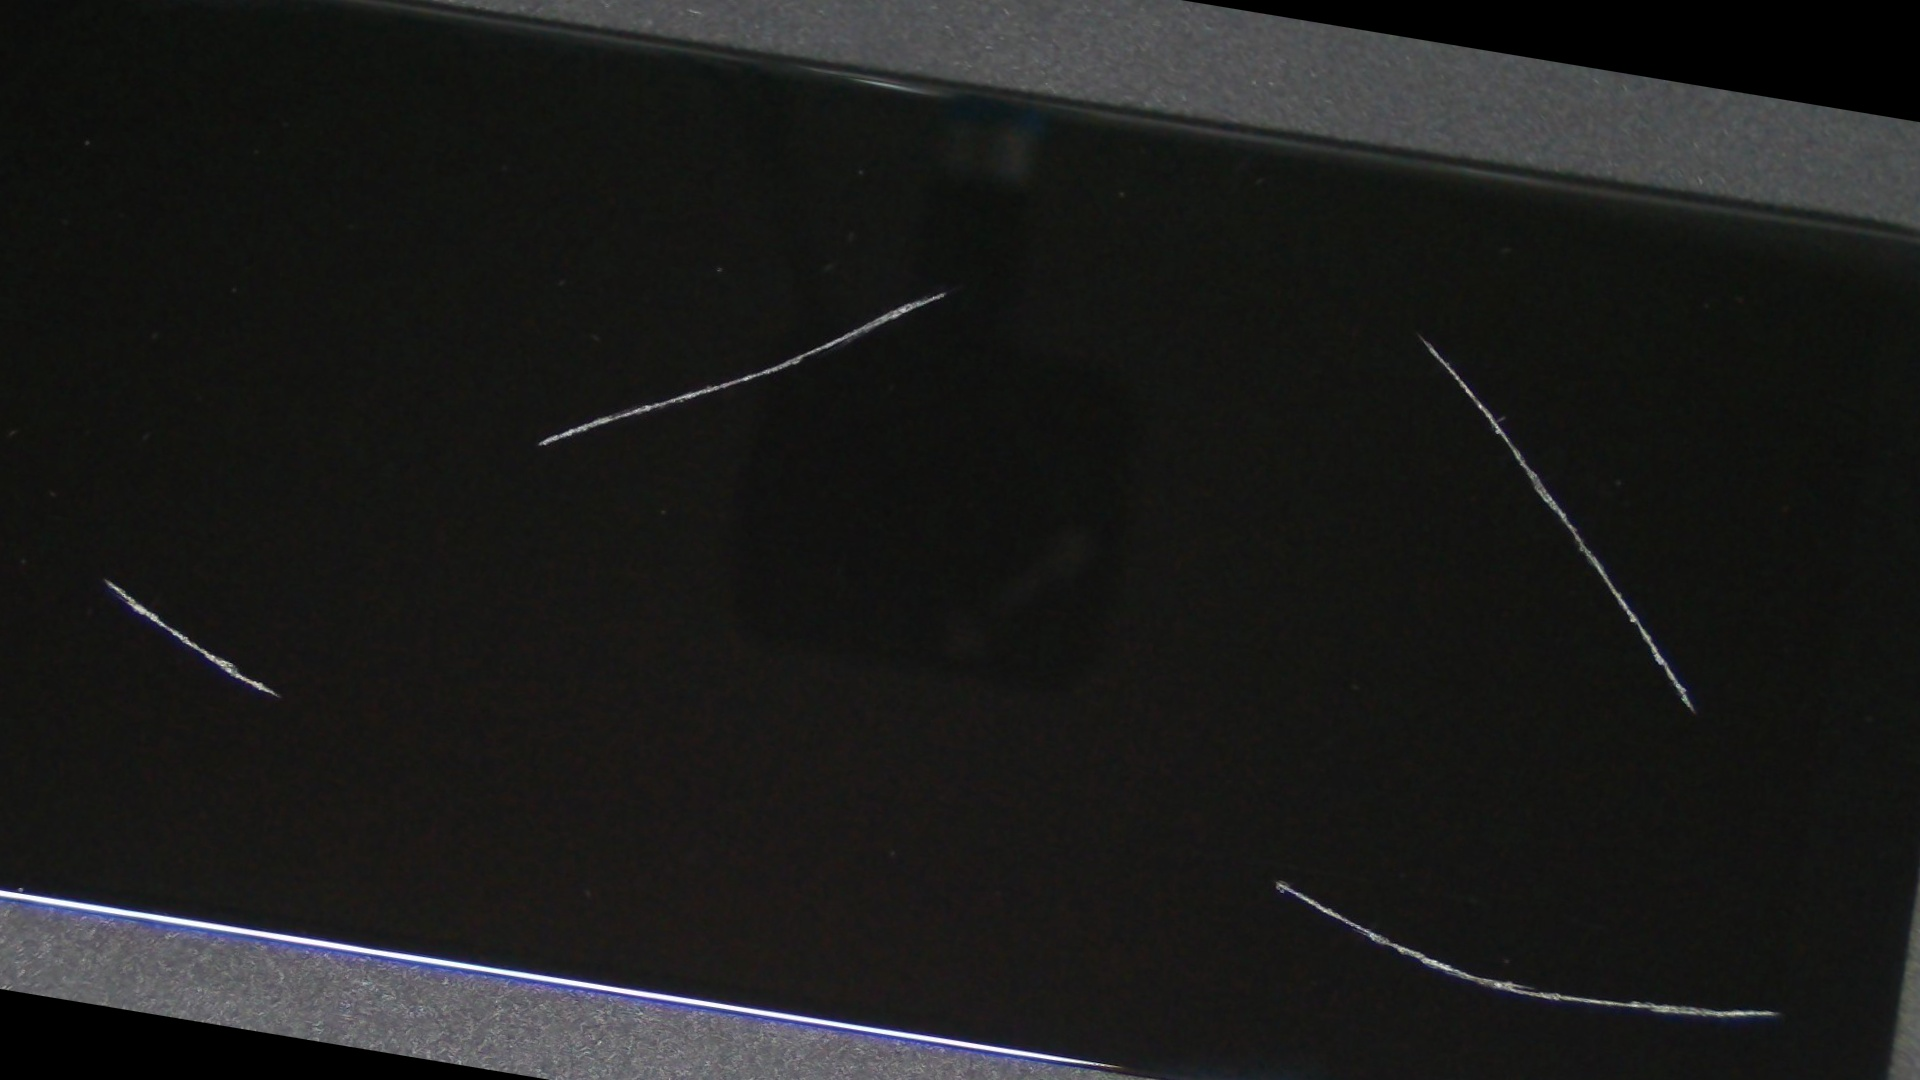oil: (451, 331, 1920, 1080), (593, 57, 1920, 579), (351, 37, 1535, 547), (0, 179, 345, 977)
